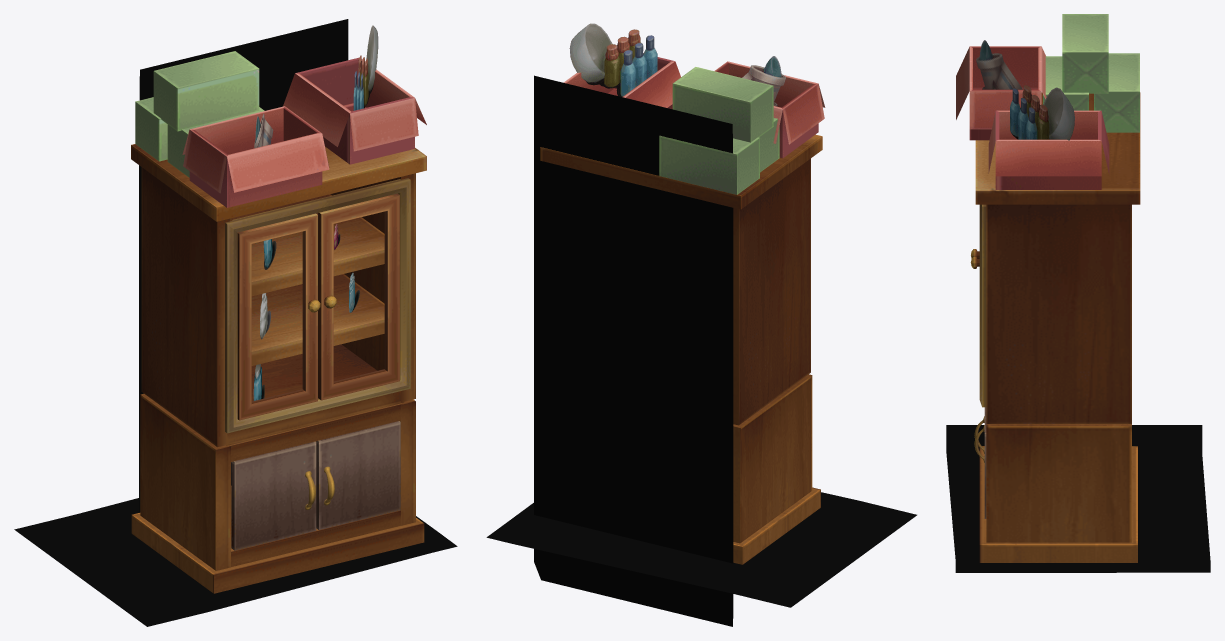
Rendered from K1_oldsideboards.FBX.
3 renders of one model, left to right at view 1: azimuth 30°, elevation 25°; view 2: azimuth 150°, elevation 25°; view 3: azimuth 270°, elevation 25°, orthographic. The views are drawn at different scales.
Parts seen in each view (by area): view 1: ligui_00, k1_oldyinying013, xiangzi_2, xiangzi_1, ligui_06, ligui_05, ligui_04, ligui_03, k1_oldyinying013_yy, ligui_zawu08, ligui_02, ligui_01 (+2 smaller); view 2: k1_oldyinying013_yy, ligui_00, k1_oldyinying013, xiangzi_1, ligui_zawu08, ligui_zawu10, xiangzi_2, ligui_zawu09; view 3: ligui_00, k1_oldyinying013, xiangzi_1, xiangzi_2, ligui_zawu08, ligui_zawu10, ligui_zawu09, ligui_05.
Part boxes in pixels (left/top/right/bottom): ligui_00: left=131, top=144, right=426, bottom=593; k1_oldyinying013: left=14, top=498, right=457, bottom=626; xiangzi_2: left=182, top=106, right=329, bottom=207; xiangzi_1: left=283, top=25, right=426, bottom=164; ligui_06: left=231, top=441, right=316, bottom=550; ligui_05: left=316, top=421, right=400, bottom=529; ligui_04: left=318, top=193, right=399, bottom=400; ligui_03: left=237, top=213, right=320, bottom=420; k1_oldyinying013_yy: left=139, top=19, right=348, bottom=512; ligui_zawu08: left=153, top=51, right=259, bottom=131; ligui_02: left=251, top=274, right=384, bottom=365; ligui_01: left=232, top=194, right=384, bottom=296; k1_oldyinying013_yy: left=534, top=75, right=733, bottom=626; ligui_00: left=540, top=134, right=822, bottom=564; k1_oldyinying013: left=486, top=492, right=916, bottom=607; xiangzi_1: left=563, top=23, right=680, bottom=109; ligui_zawu08: left=672, top=67, right=773, bottom=142; ligui_zawu10: left=659, top=135, right=759, bottom=194; xiangzi_2: left=714, top=56, right=825, bottom=158; ligui_zawu09: left=759, top=118, right=779, bottom=172; ligui_00: left=975, top=92, right=1140, bottom=562; k1_oldyinying013: left=946, top=425, right=1210, bottom=572; xiangzi_1: left=988, top=85, right=1109, bottom=189; xiangzi_2: left=956, top=40, right=1046, bottom=140; ligui_zawu08: left=1062, top=14, right=1108, bottom=93; ligui_zawu10: left=1094, top=53, right=1139, bottom=132; ligui_zawu09: left=1043, top=56, right=1088, bottom=110; ligui_05: left=974, top=407, right=986, bottom=518.
Bounding box in the file's own units: 79.38 × 134 × 59.86.
